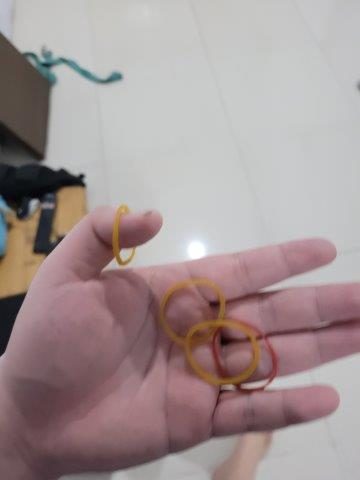karet: (185, 319, 260, 384), (213, 320, 279, 392), (158, 278, 226, 345), (113, 206, 138, 266)
